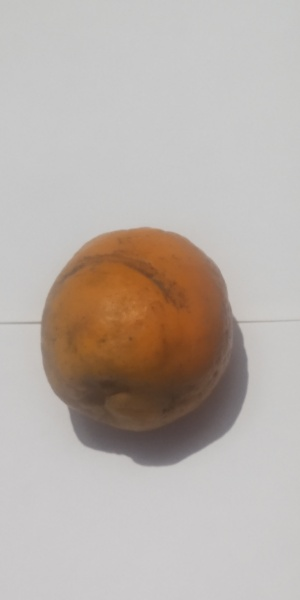BAD: (42, 228, 232, 434)
